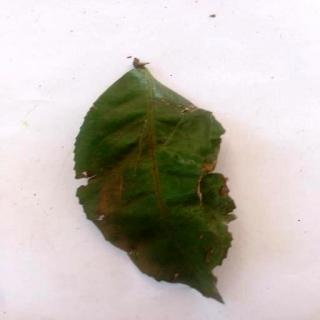Brown Blight: (70, 59, 239, 304)
